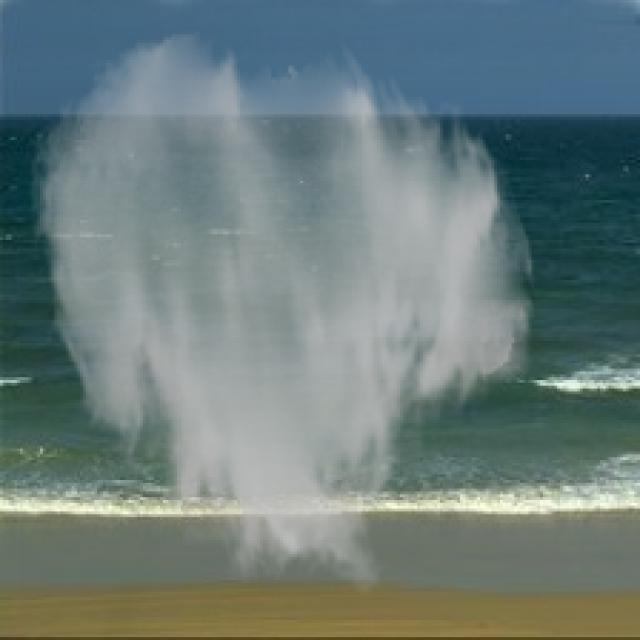smoke: (26, 29, 540, 597)
